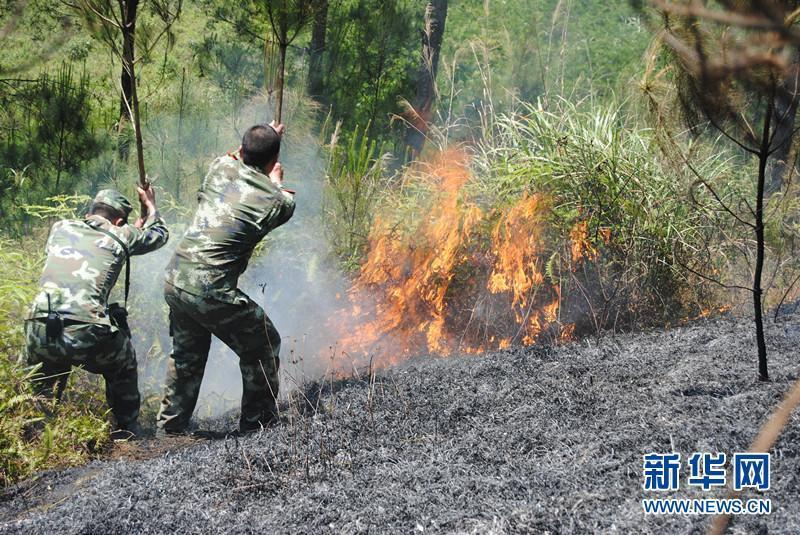fire: (329, 154, 633, 354)
